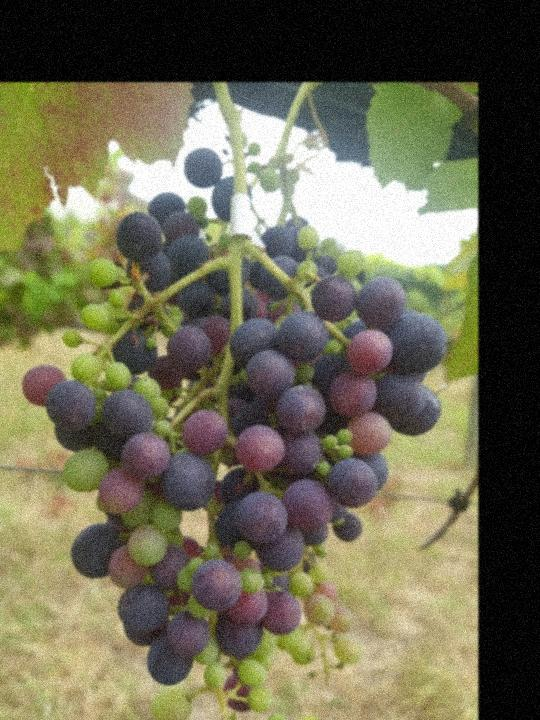grape: (19, 145, 450, 720)
